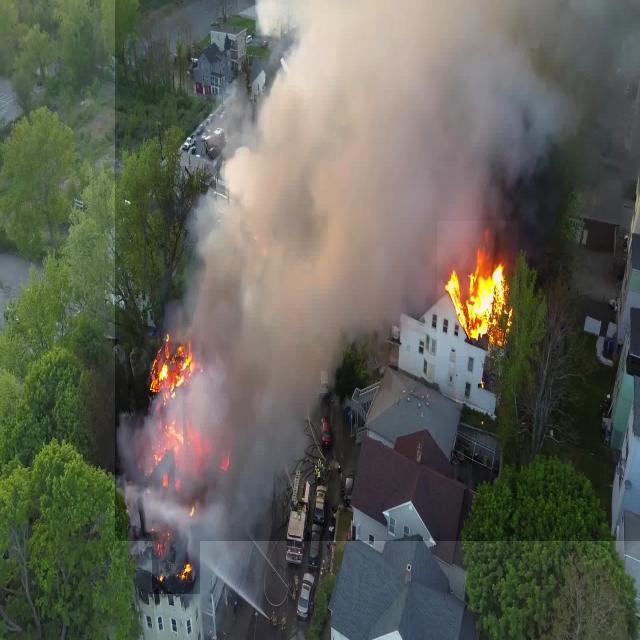Fire: (152, 329, 200, 594), (437, 221, 518, 356)
Smoke: (115, 0, 640, 541)
